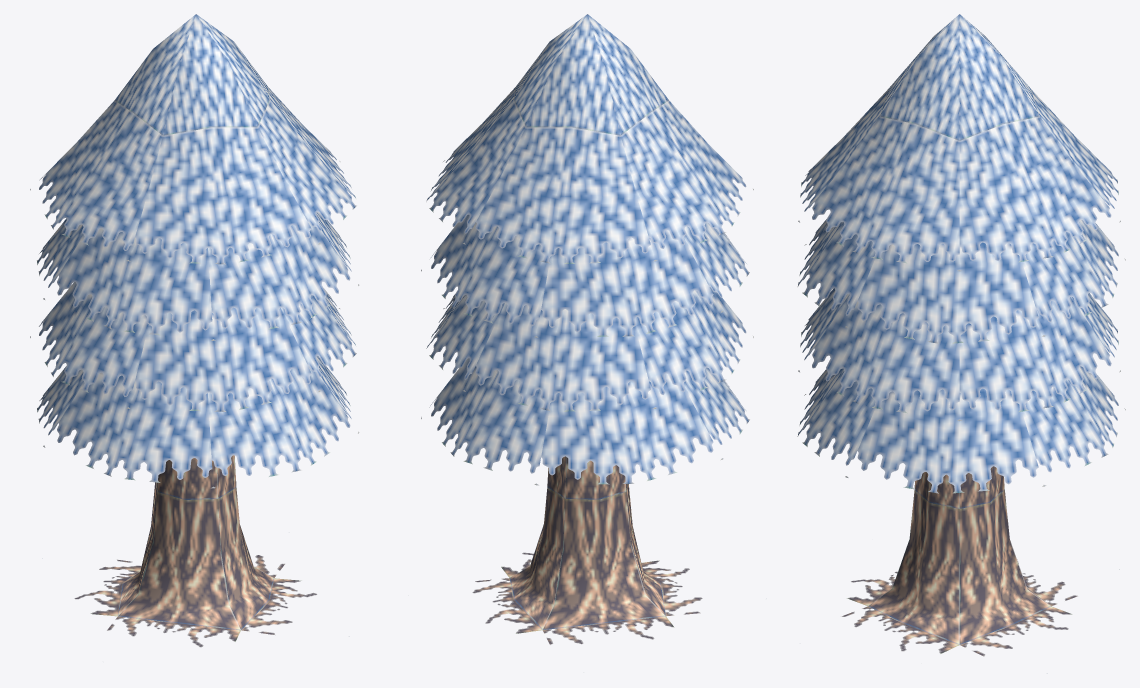
The model's file is pine_Tree_snowy_hiPoly.fbx.
3 views of the same model, side by side, from view 1: azimuth 30°, elevation 25°; view 2: azimuth 150°, elevation 25°; view 3: azimuth 270°, elevation 25° (orthographic).
Visible parts, largest first — view 1: pine_Tree_snowy_hiPoly; view 2: pine_Tree_snowy_hiPoly; view 3: pine_Tree_snowy_hiPoly.
Part boxes in pixels (<box>): pine_Tree_snowy_hiPoly: <box>30,14,359,647</box>; pine_Tree_snowy_hiPoly: <box>408,14,766,672</box>; pine_Tree_snowy_hiPoly: <box>797,14,1125,673</box>.
Size of the model in its own units: 2.87 by 5.54 by 2.78.
